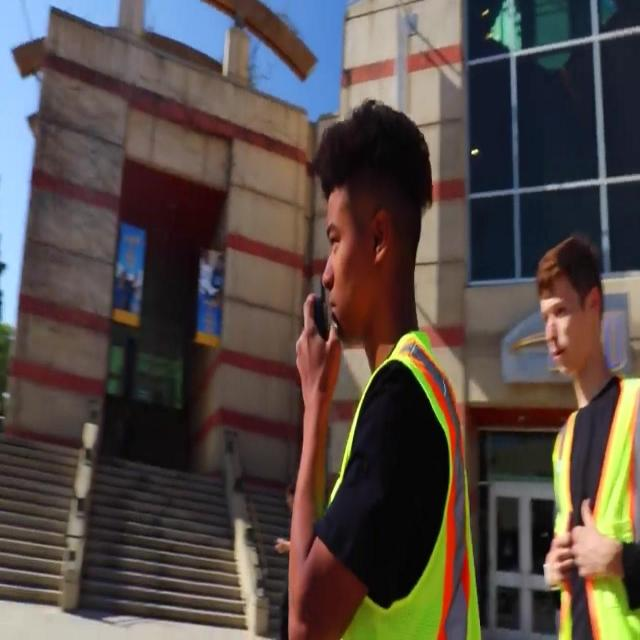Reflective-Jacket: (292, 317, 488, 640), (541, 369, 640, 640)
